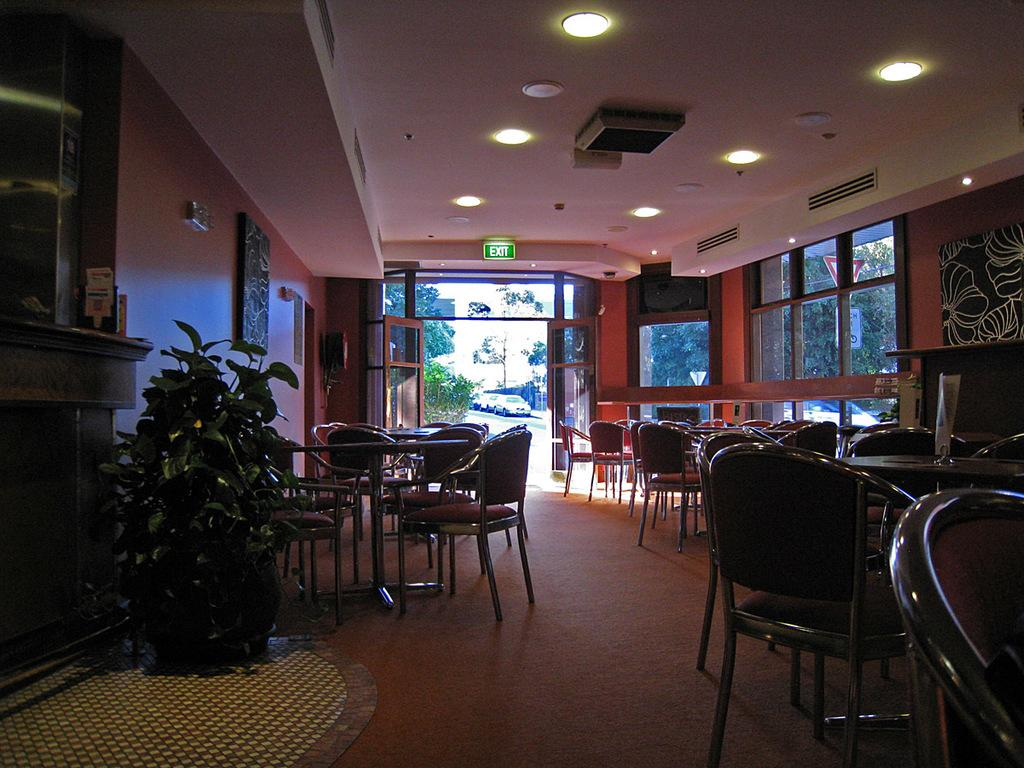Chair: (702, 436, 946, 753), (560, 415, 940, 563), (267, 418, 536, 620), (889, 485, 1023, 767), (969, 433, 1023, 464)
